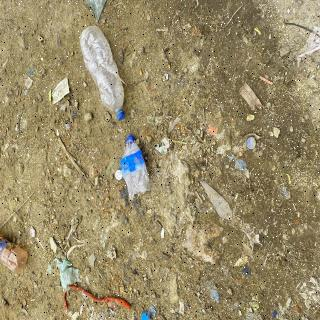Plastic-bottle: (79, 24, 128, 125), (119, 134, 154, 205), (1, 236, 30, 278)
